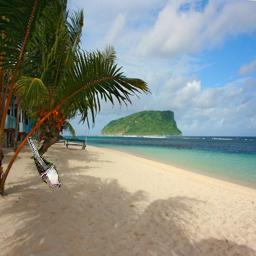Cuckoo: (27, 136, 62, 189)
